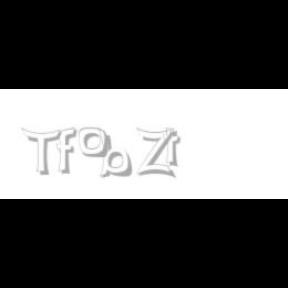T: (21, 128, 61, 176)
Z: (136, 128, 174, 178)
b: (97, 128, 135, 178)
f: (57, 128, 81, 174)
o: (79, 128, 108, 158)
t: (163, 128, 185, 168)
